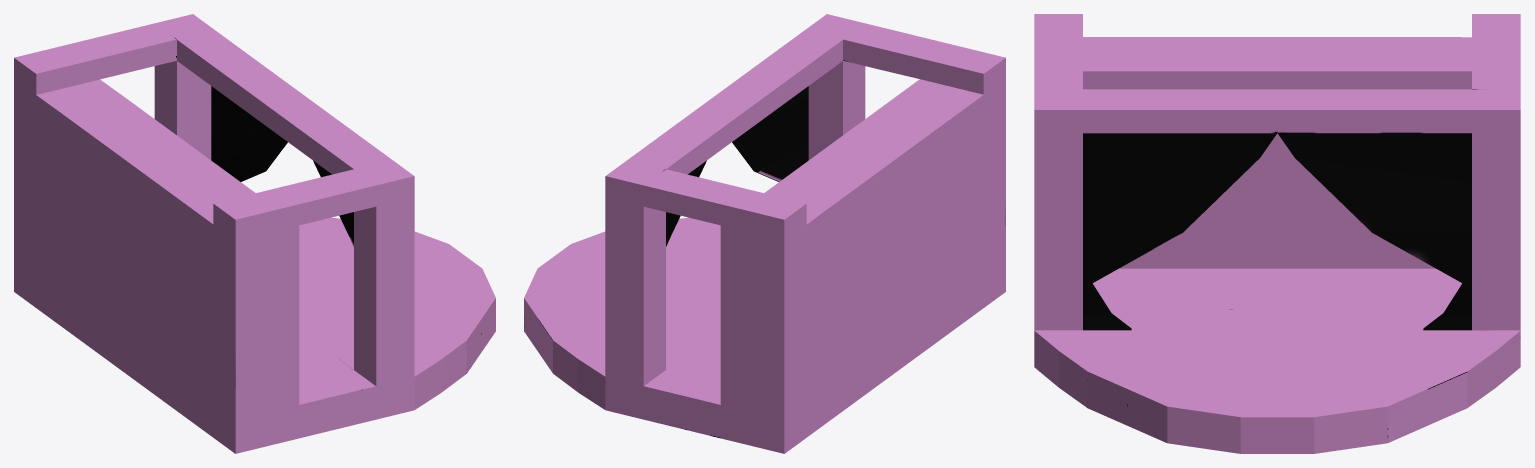
The model's file is stage.fbx.
3 renders of one model, left to right at view 1: azimuth 30°, elevation 25°; view 2: azimuth 150°, elevation 25°; view 3: azimuth 270°, elevation 25°, orthographic. The views are drawn at different scales.
Parts seen in each view (by area): view 1: Stage; view 2: Stage; view 3: Stage.
Boxes of the visible parts, <box> form: Stage: <box>14,14,495,453</box>; Stage: <box>524,14,1005,453</box>; Stage: <box>1034,14,1520,453</box>.
Bounding box in the file's own units: 1067 × 700 × 1200.
